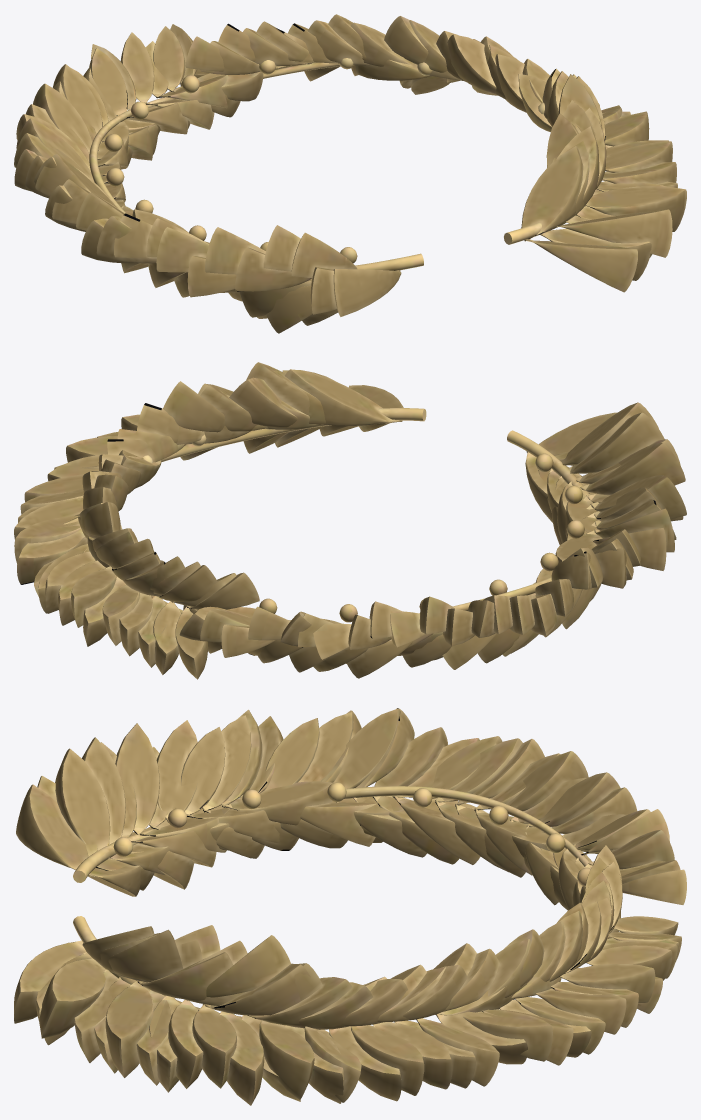
The model's file is laurel_wreath.glb.
3 renders of one model, top to bottom at view 1: azimuth 30°, elevation 25°; view 2: azimuth 150°, elevation 25°; view 3: azimuth 270°, elevation 25°, orthographic. The views are drawn at different scales.
Visible parts, largest first — view 1: laurel_wreath; view 2: laurel_wreath; view 3: laurel_wreath.
Part boxes in pixels (x1,y1,x2,y2): laurel_wreath: (14, 14, 686, 333); laurel_wreath: (14, 362, 686, 679); laurel_wreath: (14, 708, 686, 1105).
Size of the model in its own units: 0.2555 by 0.0547 by 0.2385.
1 material, 1 textured.
